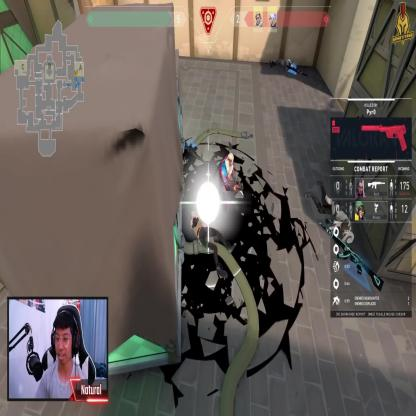enemy: (216, 152, 241, 214)
enemy_head: (228, 152, 233, 167)
